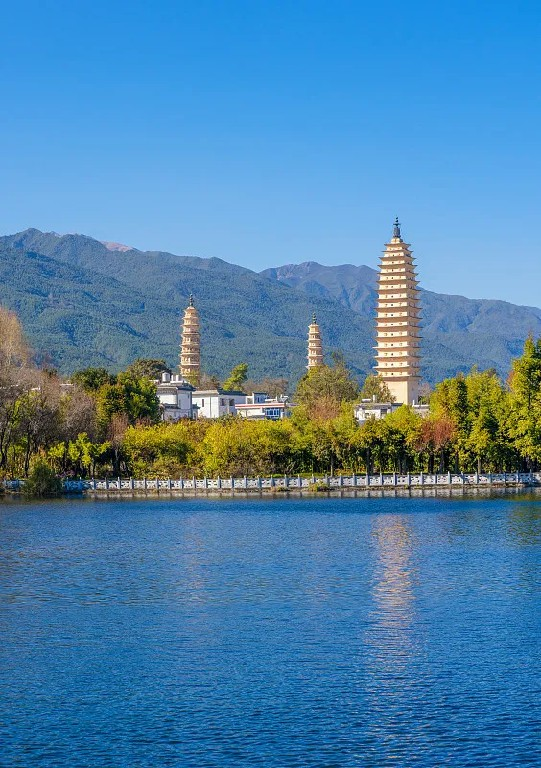ThreePagoda: (374, 218, 422, 405)
